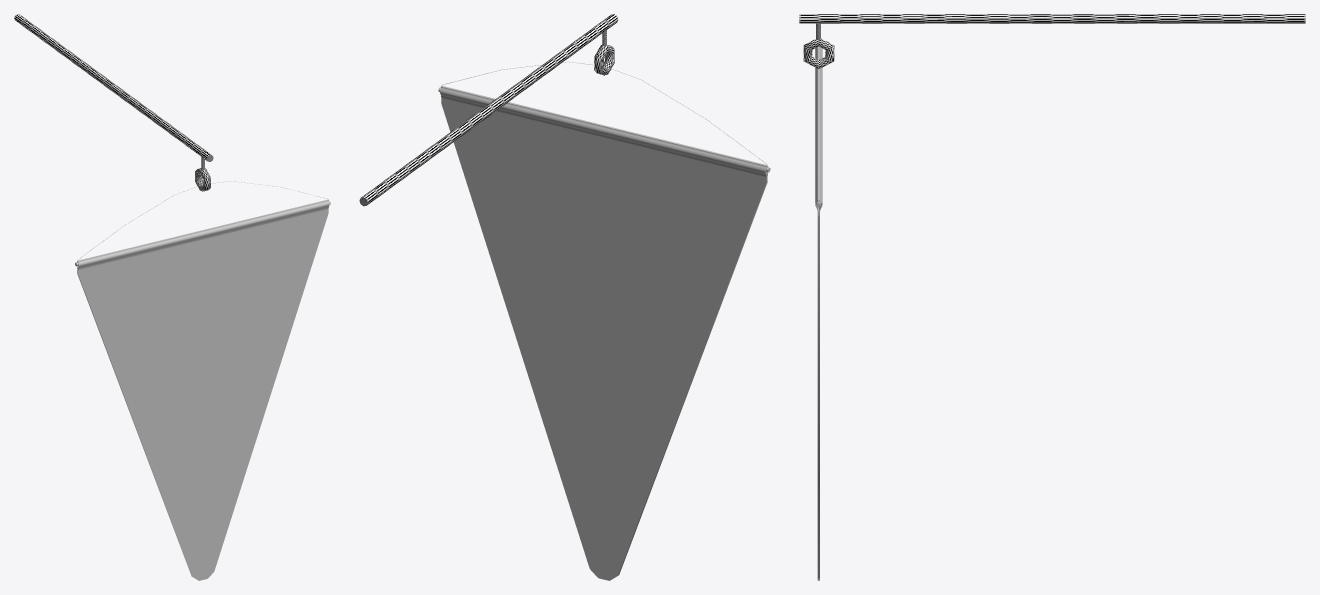
The model's file is wimbel dreieck.fbx.
3 views of the same model, side by side, from view 1: azimuth 30°, elevation 25°; view 2: azimuth 150°, elevation 25°; view 3: azimuth 270°, elevation 25° (orthographic). The views are drawn at different scales.
Parts seen in each view (by area): view 1: wible, rod; view 2: wible, rod, hanger; view 3: rod, wible, hanger.
Boxes of the visible parts, <box> form: wible: <box>77,199,329,580</box>; rod: <box>14,14,213,169</box>; wible: <box>440,86,768,580</box>; rod: <box>359,14,618,206</box>; hanger: <box>594,45,614,75</box>; rod: <box>799,14,1305,39</box>; wible: <box>815,46,822,580</box>; hanger: <box>803,38,834,68</box>.
Bounding box in the file's own units: 152 × 246 × 200.
Materials: 3 (1 with a texture image).
